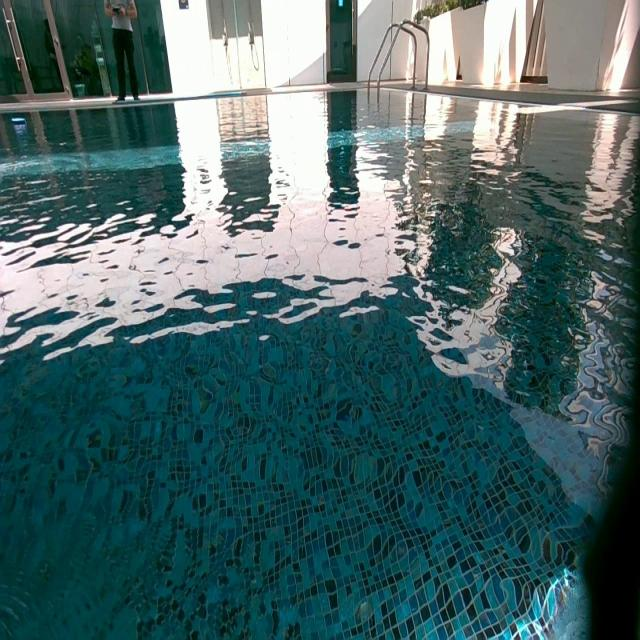Cans: (11, 116, 26, 130)
